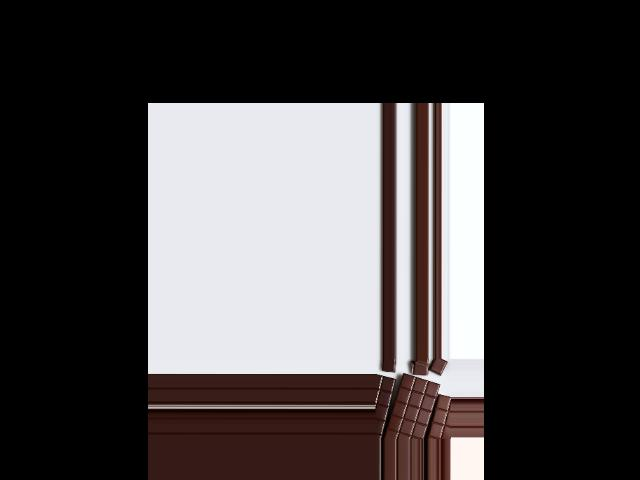chocolate: (385, 374, 441, 439)
